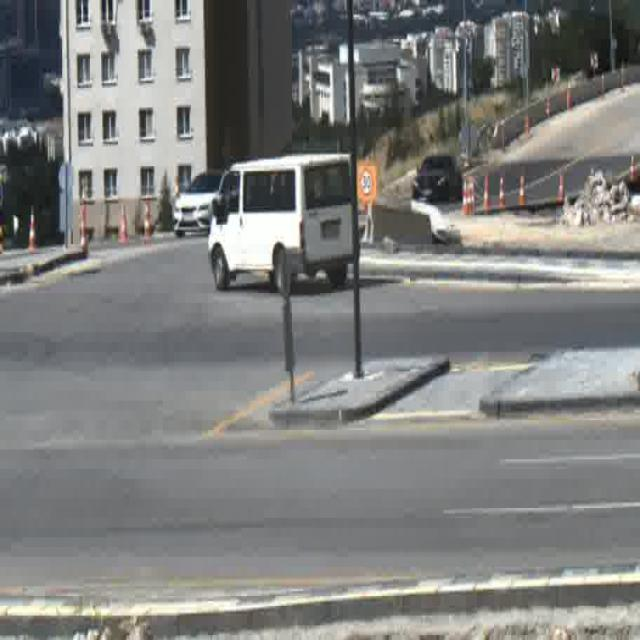Car: (205, 154, 353, 289), (173, 169, 221, 238), (413, 156, 464, 206)
